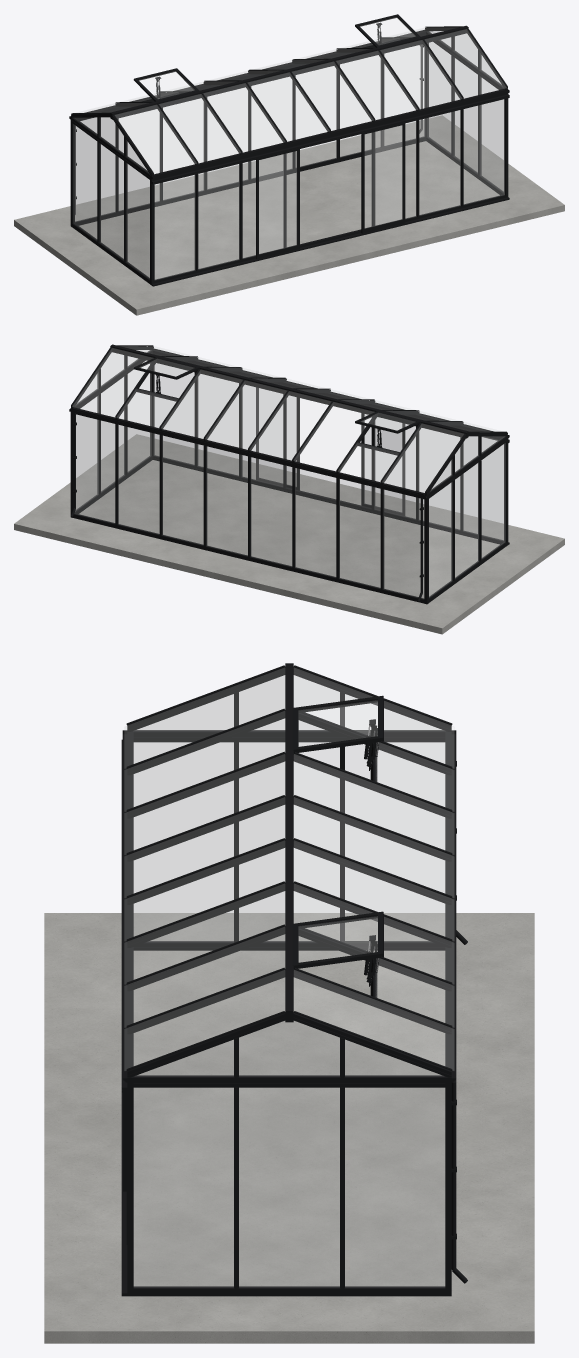
The model's file is sg-rect-7-9-19-11.glb.
3 renders of one model, top to bottom at view 1: azimuth 30°, elevation 25°; view 2: azimuth 150°, elevation 25°; view 3: azimuth 270°, elevation 25°, orthographic. The views are drawn at different scales.
Parts seen in each view (by area): view 1: scandiglas-rect-7-9-19-11; view 2: scandiglas-rect-7-9-19-11; view 3: scandiglas-rect-7-9-19-11.
Boxes of the visible parts, box(x1,y1,x2,y2) form: scandiglas-rect-7-9-19-11: box(14, 14, 564, 315); scandiglas-rect-7-9-19-11: box(14, 344, 564, 634); scandiglas-rect-7-9-19-11: box(44, 663, 534, 1343).
Size of the model in its own units: 7.35 by 2.54 by 3.64.
Materials: 5 (1 with a texture image).
